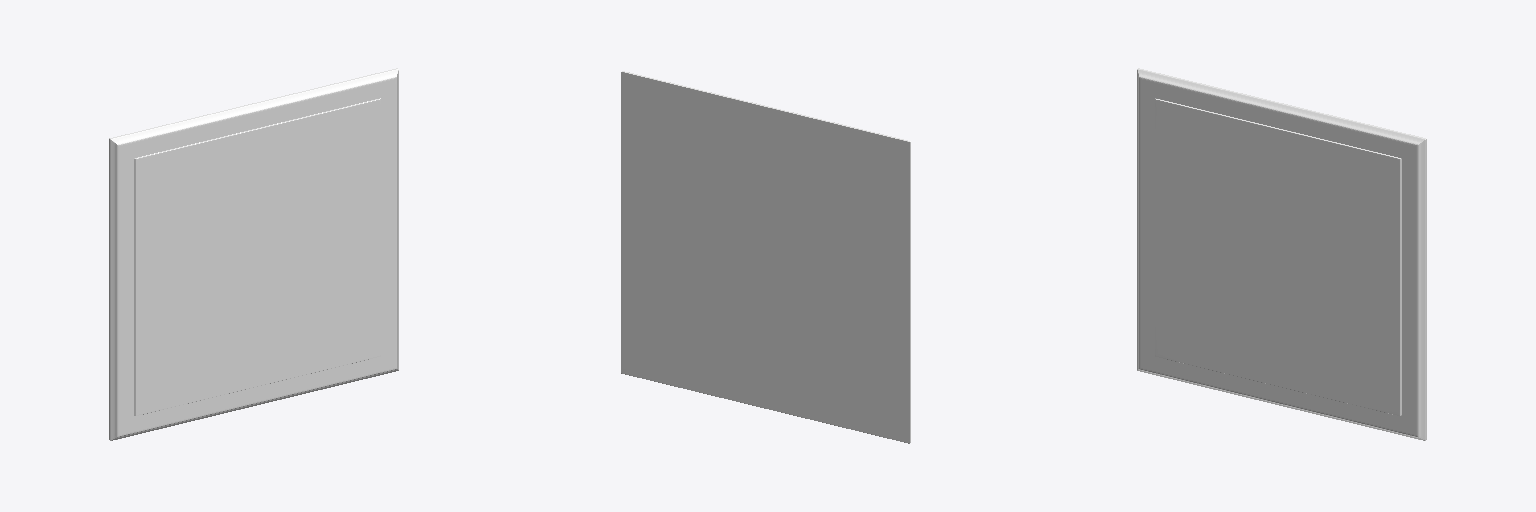
Rendered from chessFloor.obj.
The picture shows the model from 3 angles: view 1: azimuth 30°, elevation 25°; view 2: azimuth 150°, elevation 25°; view 3: azimuth 330°, elevation 25°; orthographic projection.
Visible parts, largest first — view 1: 12951_Stone_Chess_Board_v1_L3.001; view 2: 12951_Stone_Chess_Board_v1_L3.001; view 3: 12951_Stone_Chess_Board_v1_L3.001.
Boxes of the visible parts, x1,y1,x2,y2 form: 12951_Stone_Chess_Board_v1_L3.001: [109, 68, 398, 440]; 12951_Stone_Chess_Board_v1_L3.001: [621, 71, 910, 443]; 12951_Stone_Chess_Board_v1_L3.001: [1137, 68, 1426, 440].
Size of the model in its own units: 14.64 by 14.64 by 0.4354.